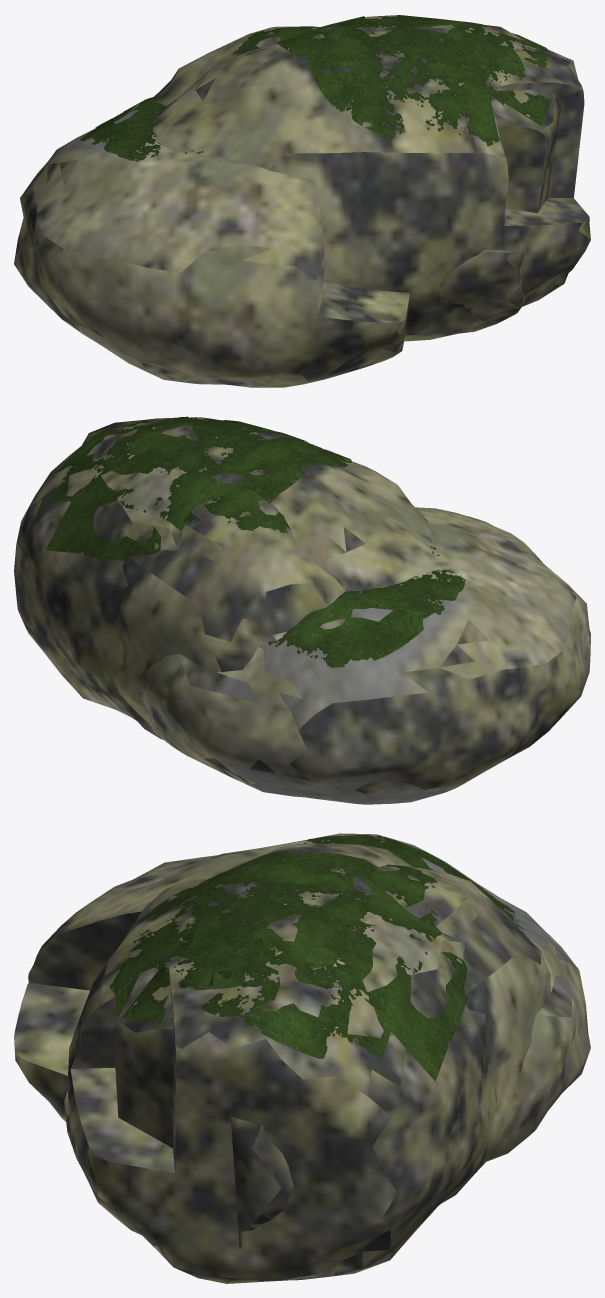
File: v6_fractured.glb
3 renders of one model, top to bottom at view 1: azimuth 30°, elevation 25°; view 2: azimuth 150°, elevation 25°; view 3: azimuth 270°, elevation 25°, orthographic. The views are drawn at different scales.
Visible parts, largest first — view 1: sacred_weathered_stone_surface, v6_surface_moss_surface; view 2: sacred_weathered_stone_surface, v6_surface_moss_surface; view 3: sacred_weathered_stone_surface, v6_surface_moss_surface.
Part boxes in pixels (x1,y1,x2,y2): sacred_weathered_stone_surface: [14, 15, 590, 387]; v6_surface_moss_surface: [80, 15, 551, 183]; sacred_weathered_stone_surface: [14, 417, 590, 804]; v6_surface_moss_surface: [45, 416, 465, 667]; sacred_weathered_stone_surface: [14, 833, 590, 1283]; v6_surface_moss_surface: [109, 835, 524, 1081].
Size of the model in its own units: 0.4948 by 0.2599 by 0.3952.
2 materials, 2 textured.
